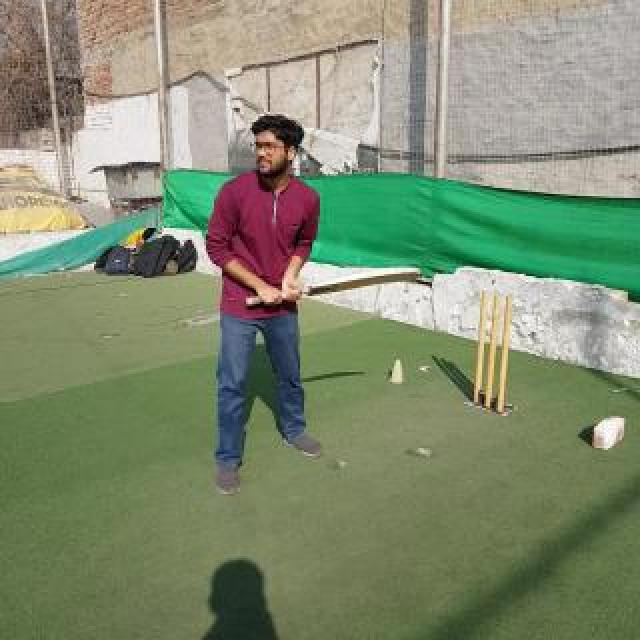bat: (246, 268, 420, 306)
